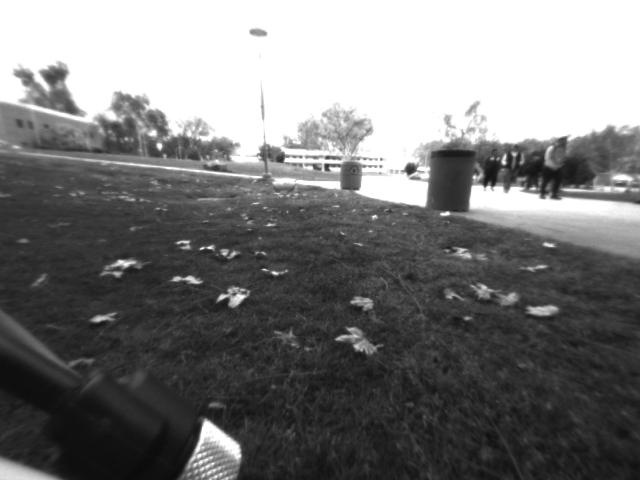trashcan: (422, 141, 478, 219), (337, 155, 367, 198)
